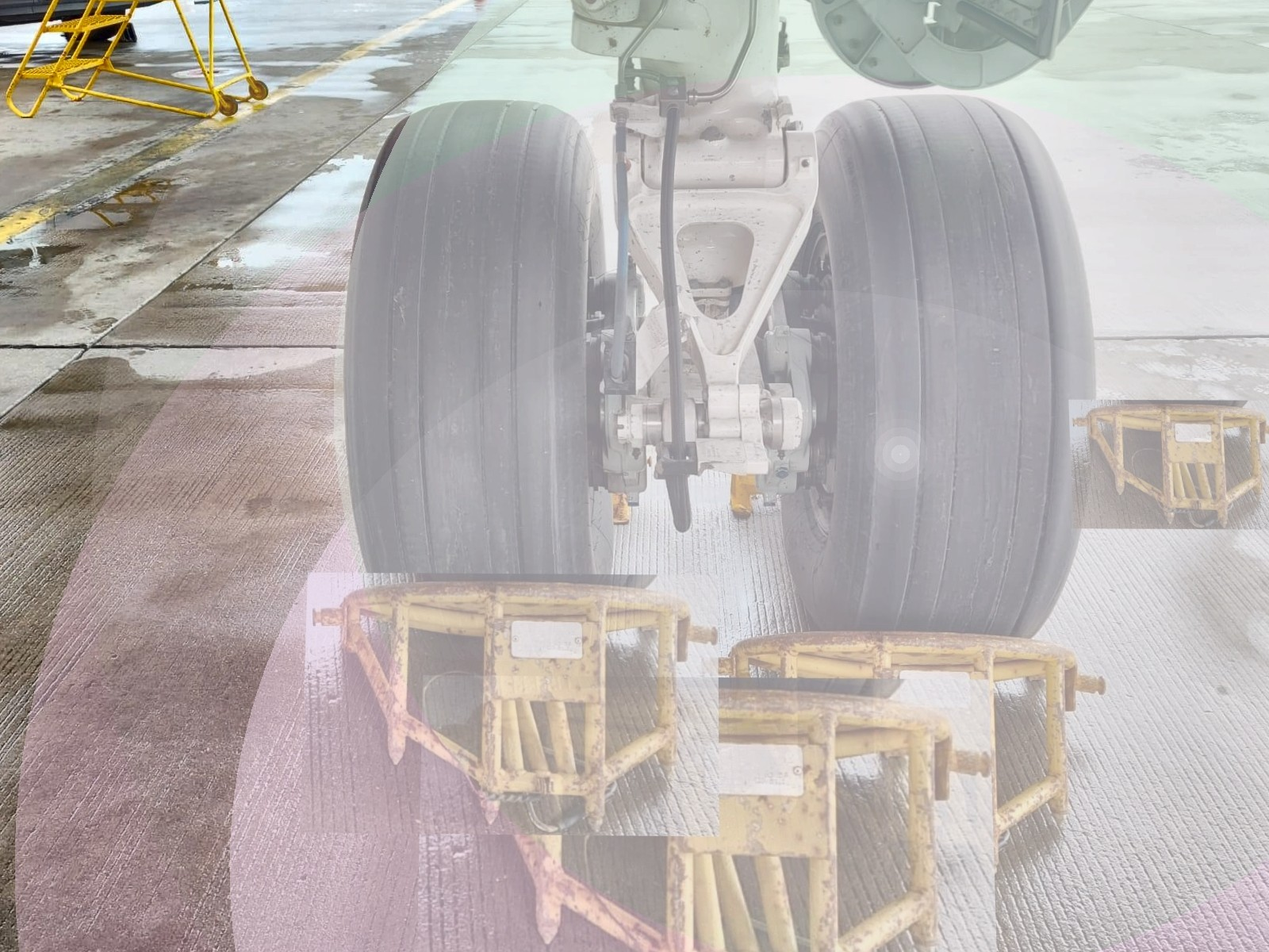chock: (415, 675, 1000, 952), (300, 573, 719, 837), (696, 623, 1114, 886), (1069, 400, 1269, 530)
wheel: (781, 93, 1104, 631), (327, 94, 617, 676)
